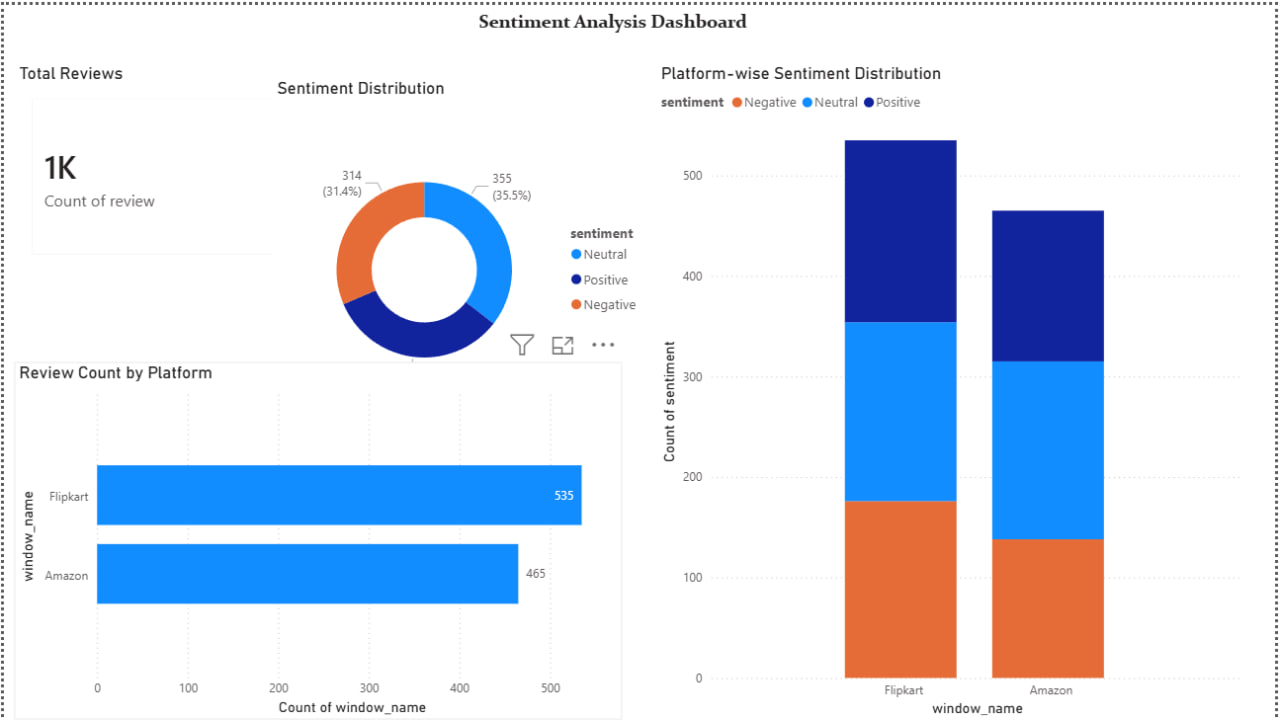

The page's visual inventory and layout, read from the dashboard file:
{"tool":"powerbi","page":{"name":"Sentiment Analysis","canvas":[1280,720],"ordinal":2},"visuals":[{"type":"cardVisual","title":"Total Reviews","fields":{"Data":["CountNonNull(cleaned_product_reviews_1000.review)"]},"box":[10,57.5,280,211.2],"z":0},{"type":"donutChart","title":"Sentiment Distribution","fields":{"Category":["cleaned_product_reviews_1000.sentiment"],"Y":["CountNonNull(cleaned_product_reviews_1000.sentiment)"]},"box":[270,73.8,386.2,367.5],"z":1000},{"type":"columnChart","title":"Platform-wise Sentiment Distribution","fields":{"Category":["cleaned_product_reviews_1000.window_name"],"Y":["CountNonNull(cleaned_product_reviews_1000.sentiment)"],"Series":["cleaned_product_reviews_1000.sentiment"]},"box":[656.2,57.5,595,662.5],"z":2000},{"type":"barChart","title":"Review Count by Platform","fields":{"Category":["cleaned_product_reviews_1000.window_name"],"Y":["CountNonNull(cleaned_product_reviews_1000.window_name)"]},"box":[10,360,612.5,360],"z":3000},{"type":"textbox","box":[472.5,0,300,46.2],"z":4000}]}

Visuals, with their boxes in screenshot pixels (x1, y1, x2, y2), scaled from the page's 1280x720 canvas onto the 1280x720 screenshot:
"Total Reviews" cardVisual: Rect(10, 58, 290, 269)
"Sentiment Distribution" donutChart: Rect(270, 74, 656, 441)
"Platform-wise Sentiment Distribution" columnChart: Rect(656, 58, 1251, 719)
"Review Count by Platform" barChart: Rect(10, 360, 622, 719)
textbox: Rect(472, 0, 772, 46)
